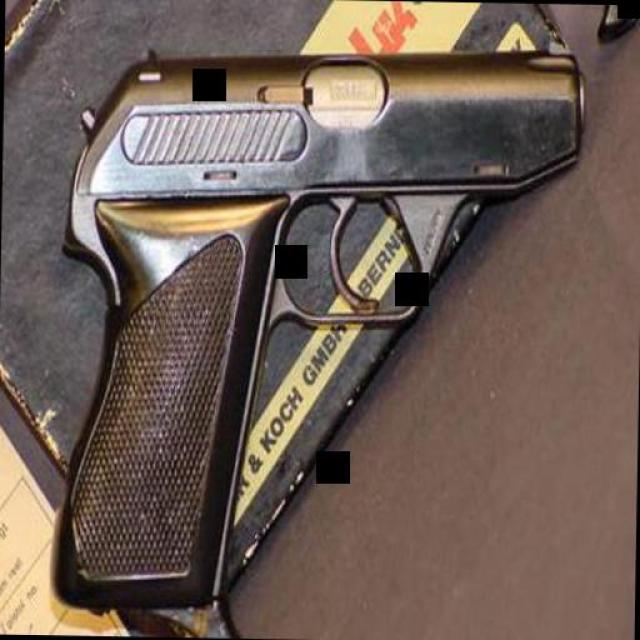gun: (47, 41, 585, 611)
